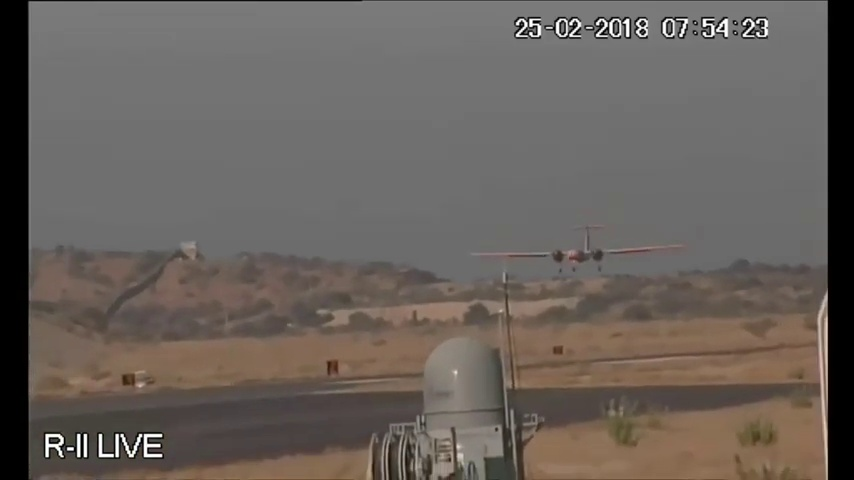military drone: (470, 223, 688, 273)
